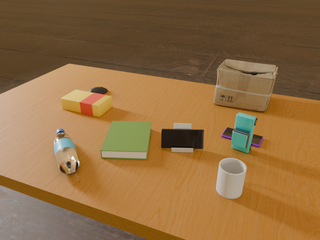book: (101, 121, 151, 159)
bottle: (54, 129, 80, 174)
box: (213, 59, 278, 111), (61, 90, 112, 117)
cup: (216, 158, 246, 199)
phone: (161, 129, 204, 149), (221, 127, 263, 147)
toy_car: (231, 113, 257, 153)
